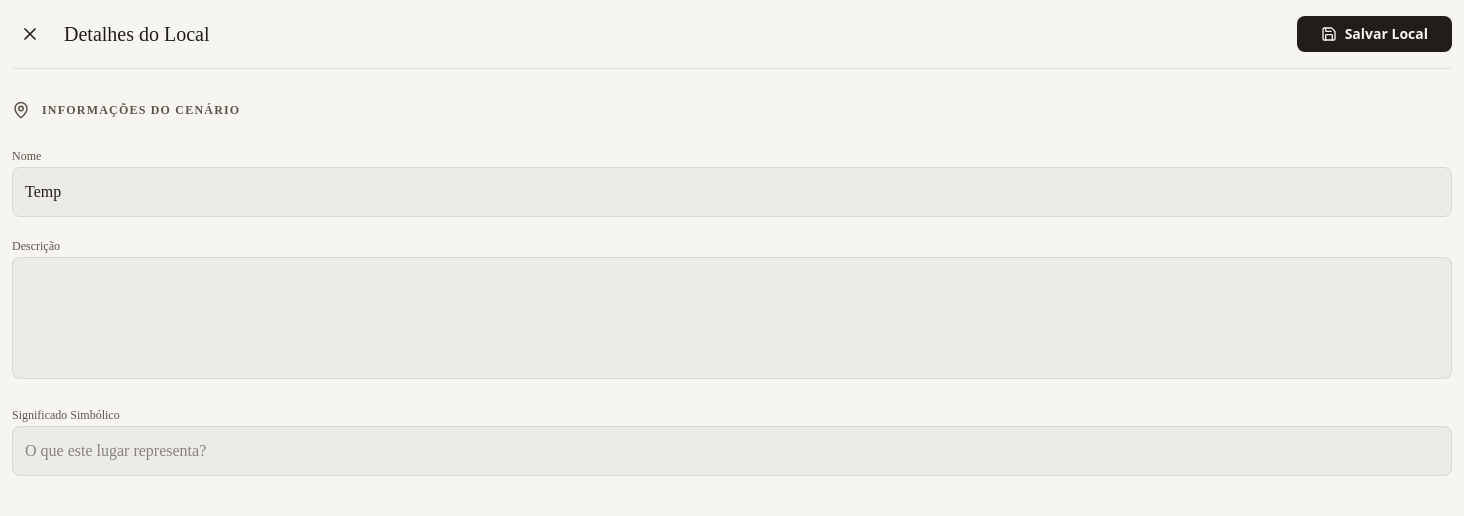
Test: Location Components › LocationForm › should show error when name is empty
Clear the field labelled "Nome" at (732, 192), box [12, 167, 1452, 217]
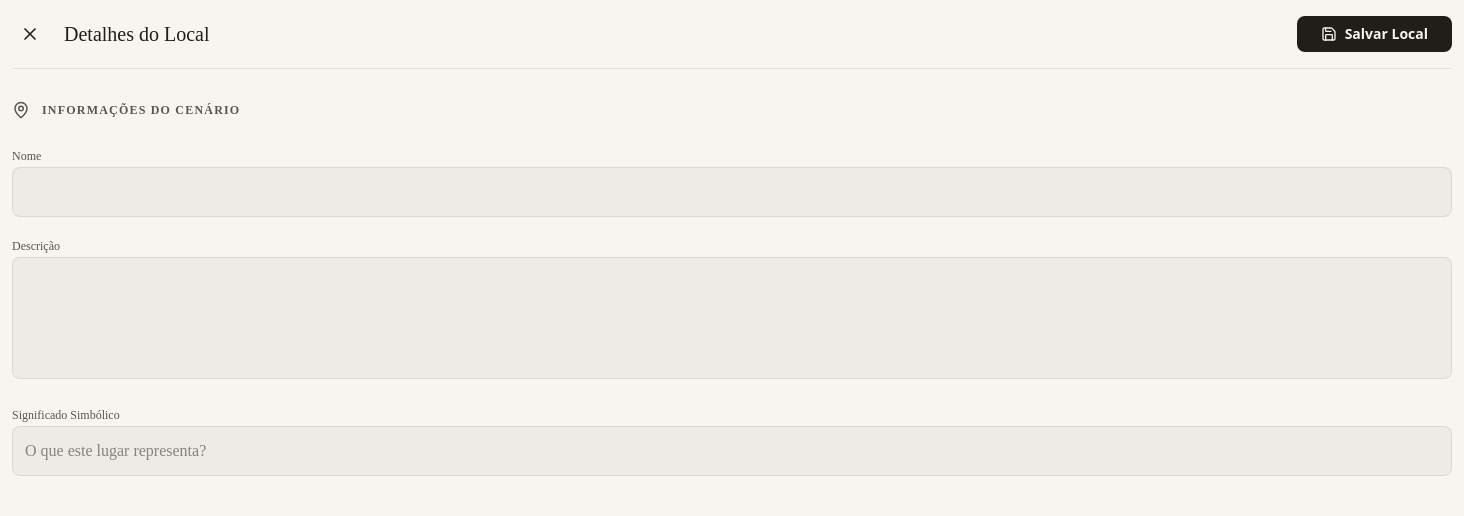
Click the button "Salvar Local" at (1374, 34), box [1297, 16, 1452, 52]
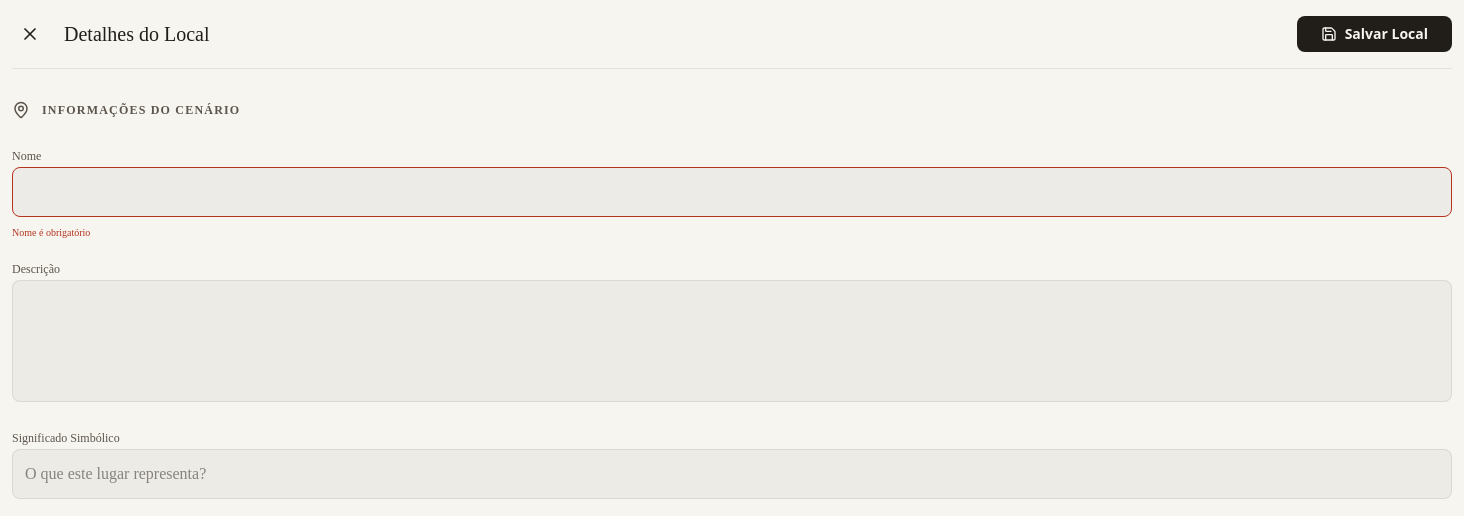
Now the text "Nome é obrigatório" is shown, box [12, 227, 90, 238]
